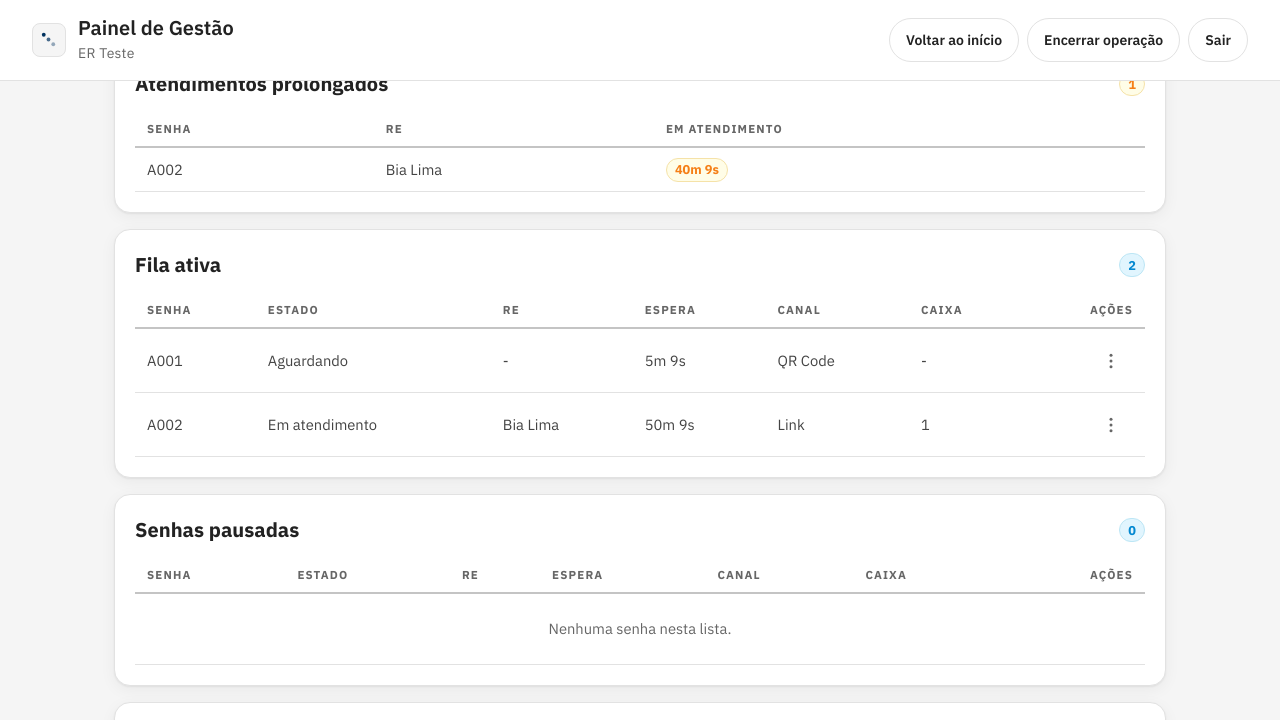
it: ManagerPage › surfaces a failure when cancelling a ticket inside the dialog
(page scrolled)
Expected: the heading "Fila ativa" is shown, left=135, top=250, right=221, bottom=280
Click the button named "Ações da senha A001" at [1111, 361], box left=1089, top=339, right=1133, bottom=383
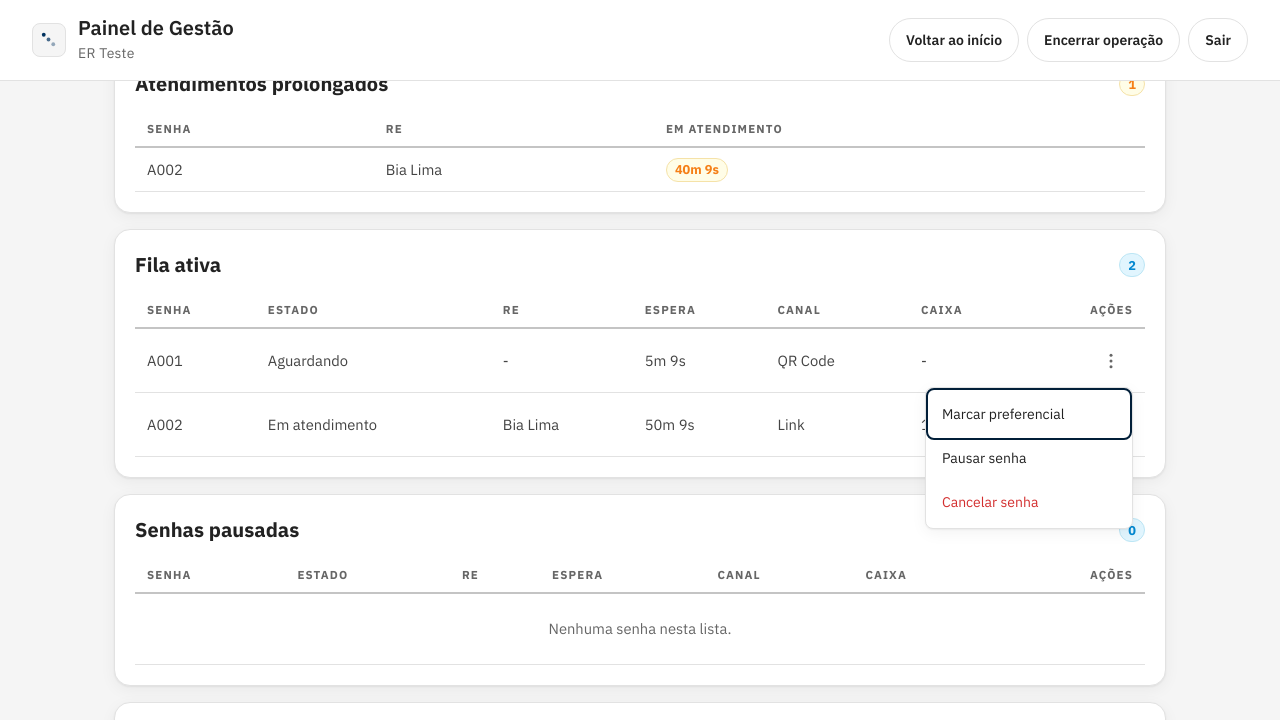
Click the menu item "Cancelar senha" at [1029, 502], box left=930, top=480, right=1128, bottom=524
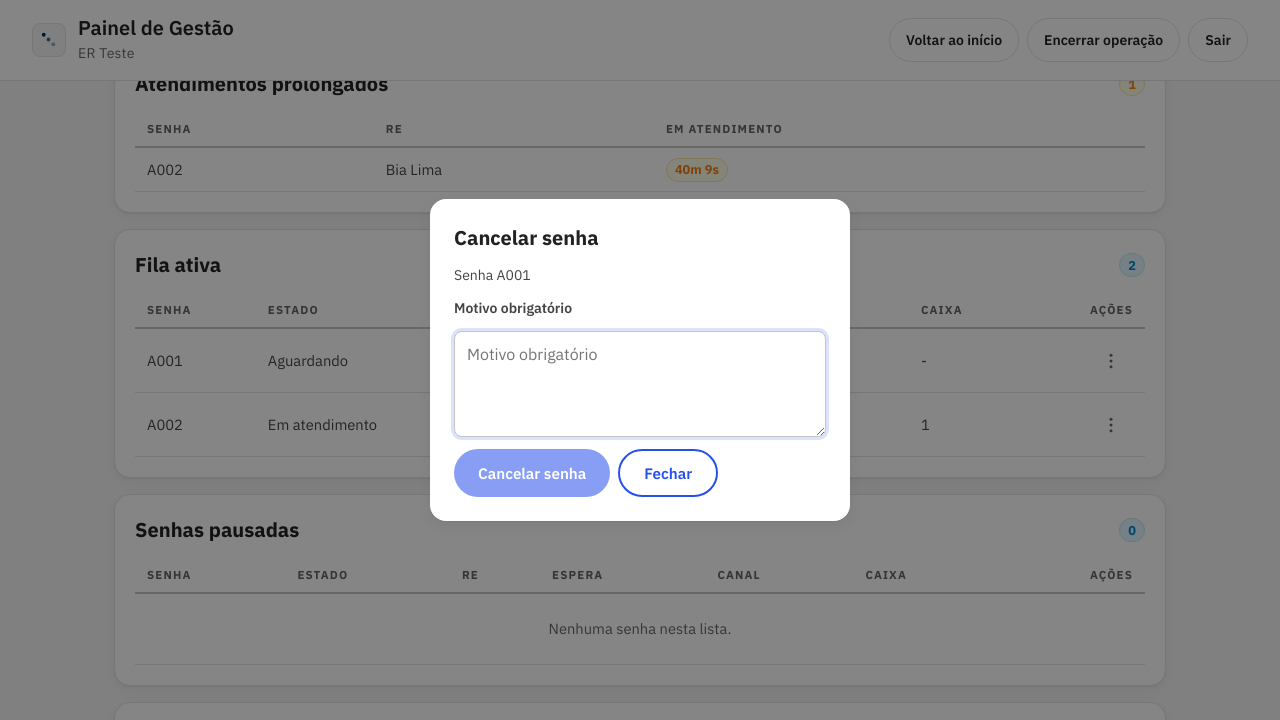
Type "motivo" into the text box at [640, 384], box left=454, top=331, right=826, bottom=437
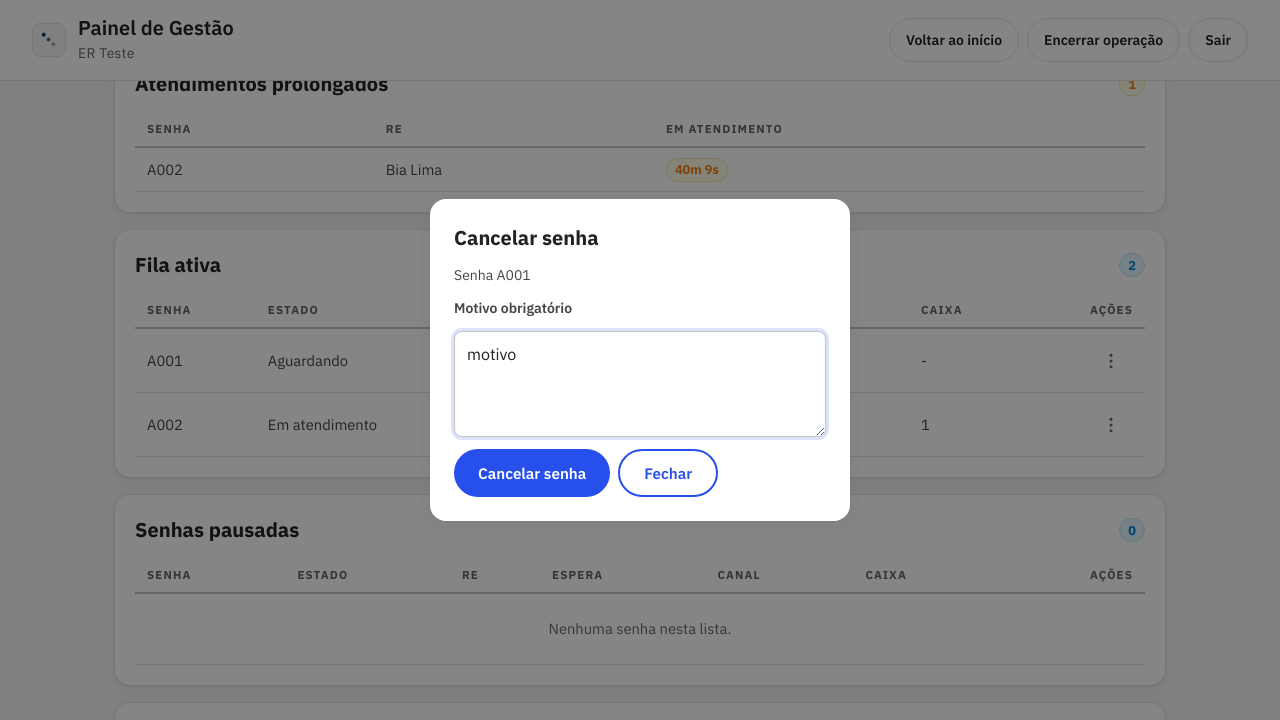
Click the button "Cancelar senha" at [532, 473], box left=454, top=449, right=610, bottom=497
(page scrolled)
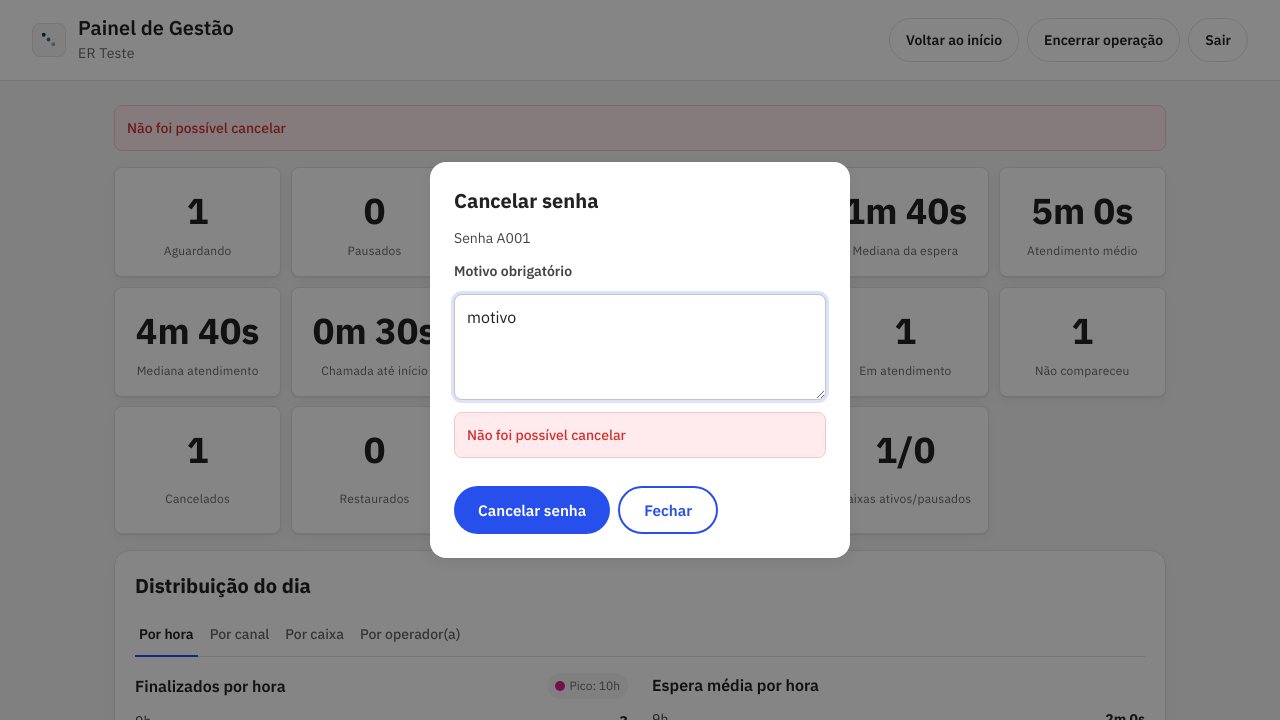
Expected: the text "Não foi possível cancelar" below "ER Teste" is shown, left=127, top=119, right=286, bottom=137
